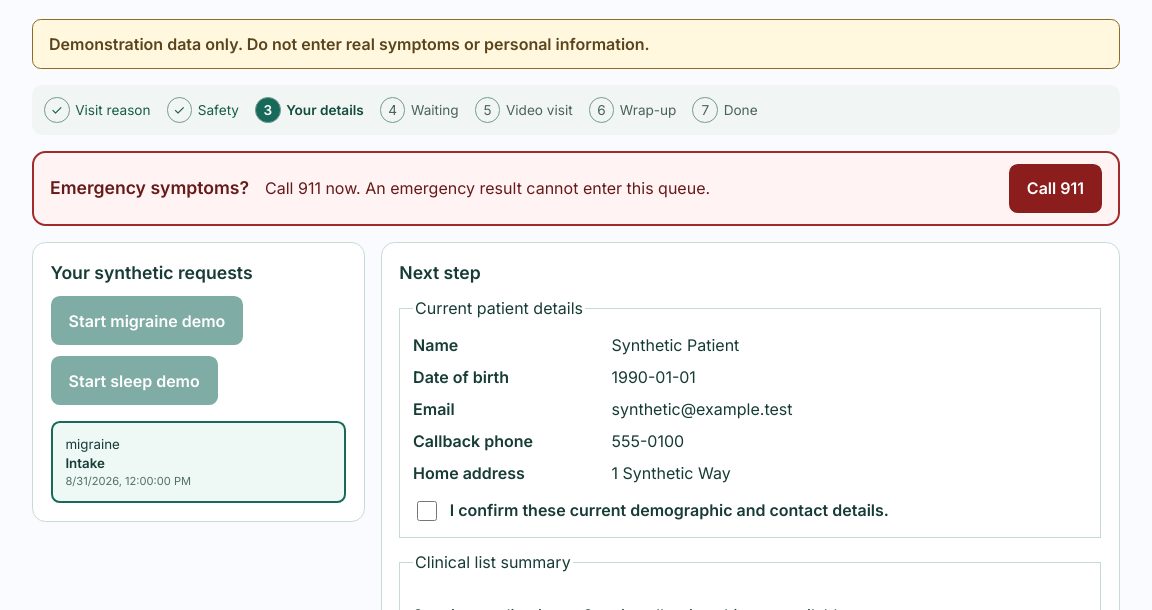
it: PatientTelehealthWorkspace › submits reviewed intake, verifies coverage, and queues in one explicit action
The width and height of the screenshot is (1152, 610).
Click the checkbox labelled "I confirm these current demographic and contact details.": (427, 511) [417,501,437,521]
(page scrolled)
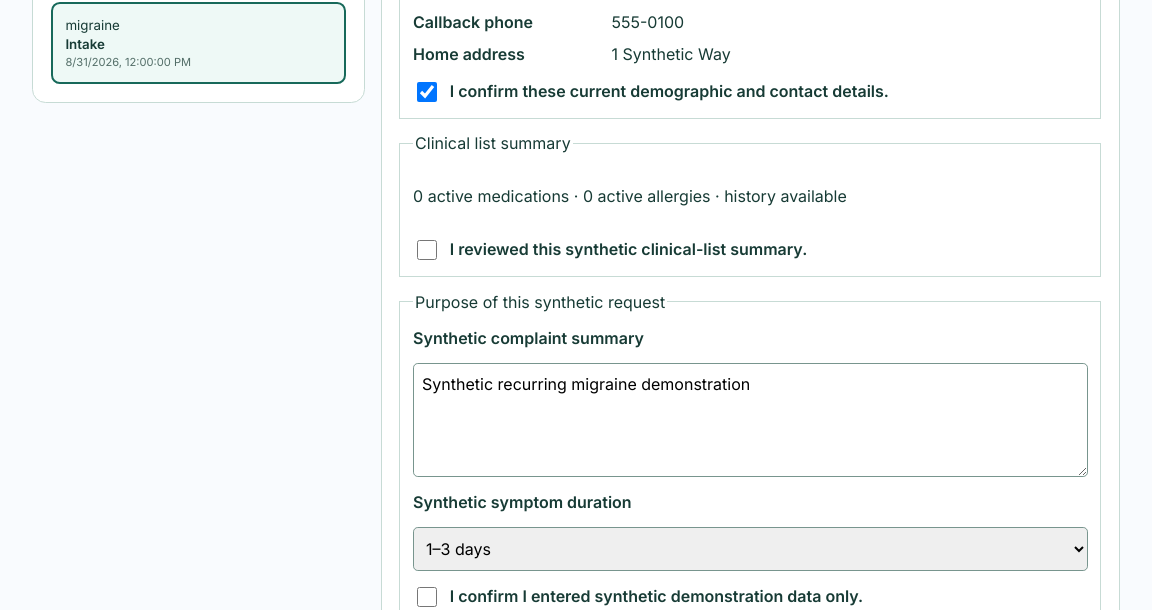
Click the checkbox labelled "I reviewed this synthetic clinical-list summary.": (427, 250) [417,240,437,260]
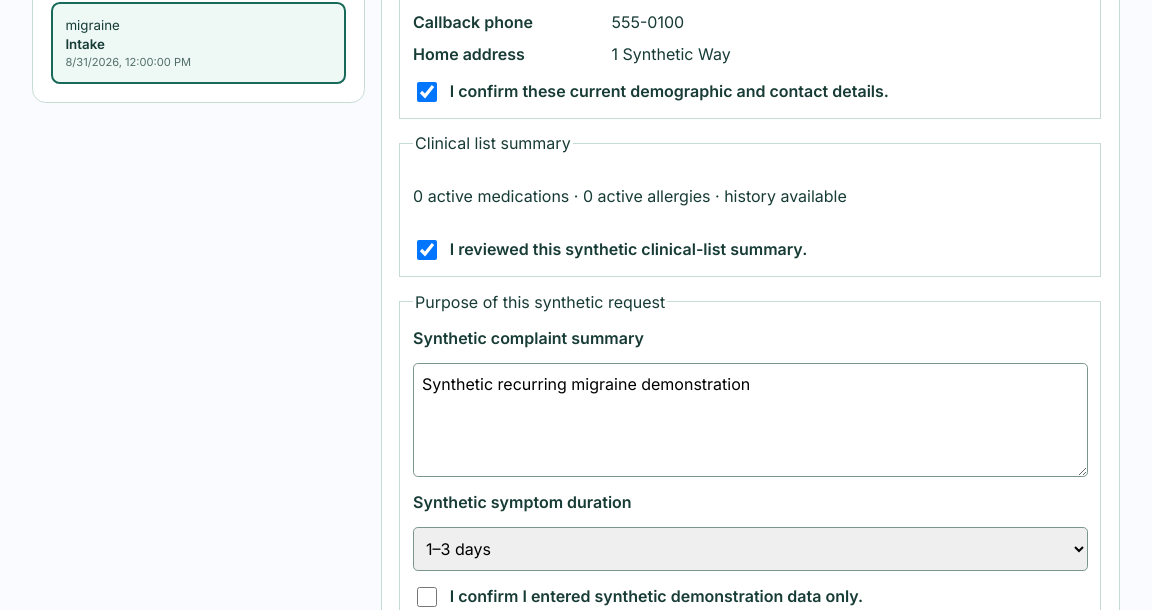
Click the checkbox labelled "I confirm I entered synthetic demonstration data only.": (427, 597) [417,587,437,607]
(page scrolled)
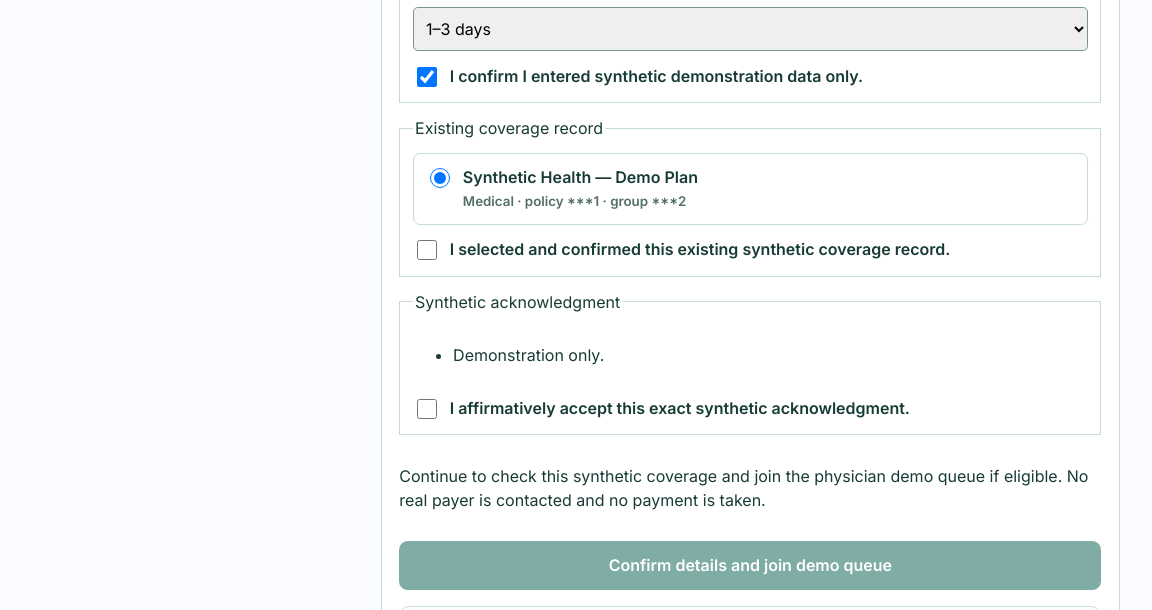
Click the checkbox labelled "selected and confirmed this existing synthetic coverage": (427, 250) [417,240,437,260]
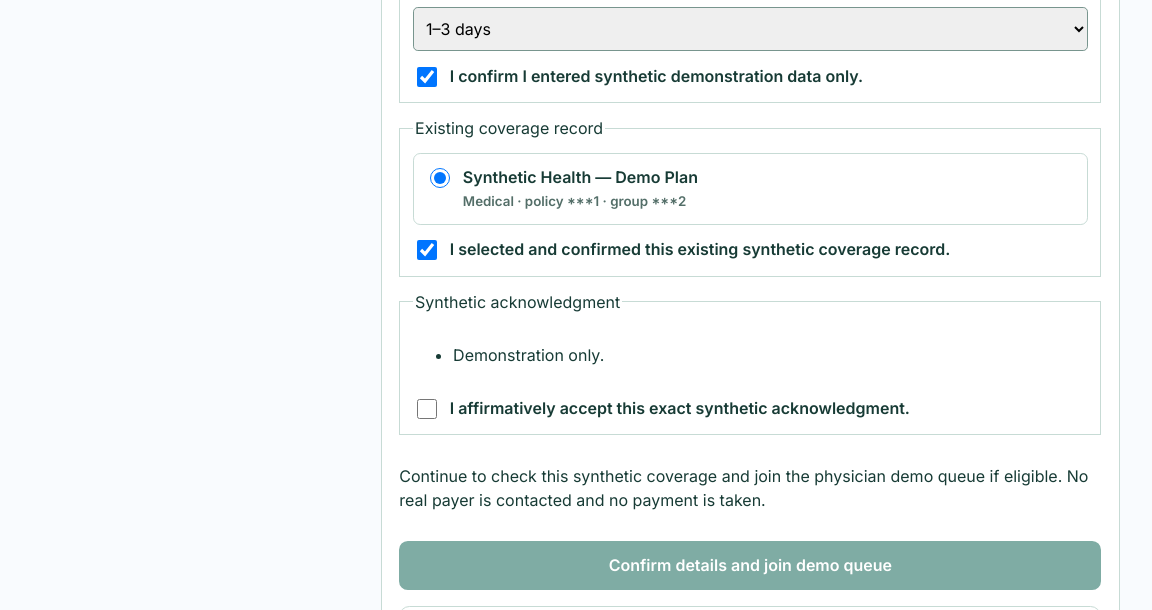
Click the checkbox labelled "I affirmatively accept this exact synthetic acknowledgment.": (427, 408) [417,398,437,418]
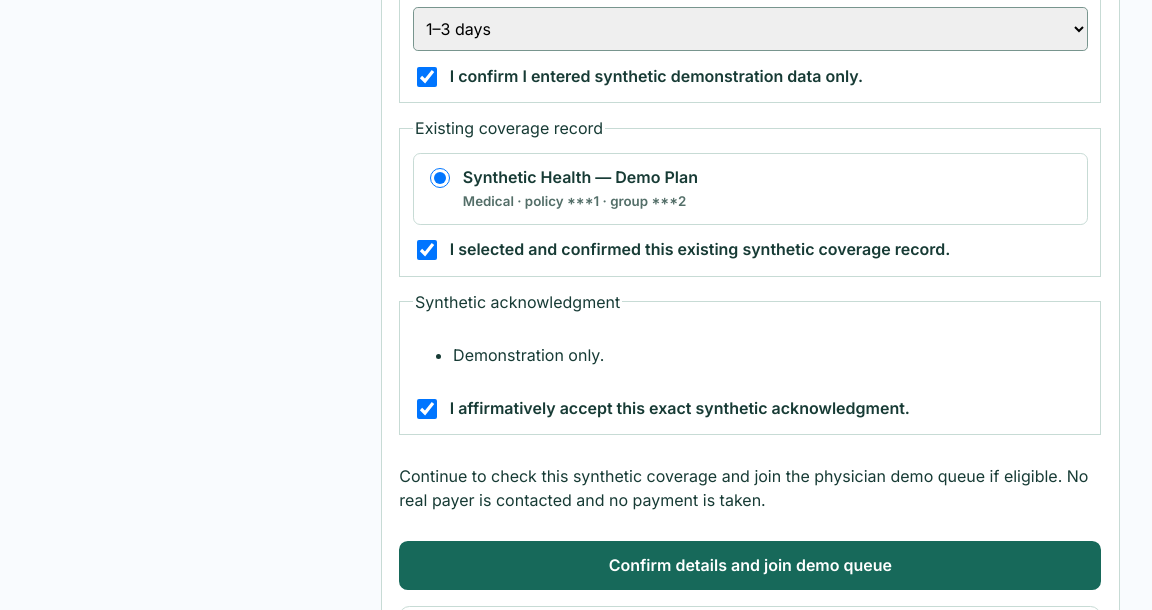
Click the button "Confirm details and join demo queue": (750, 565) [399,541,1101,590]
(page scrolled)
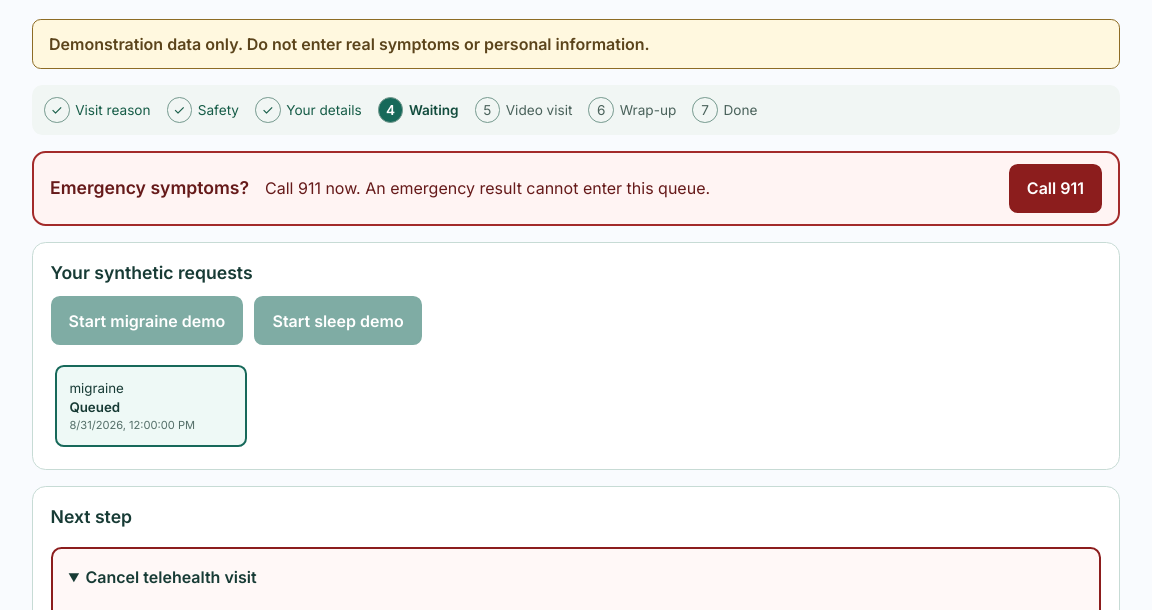
Now the button "Confirm details and join demo queue" is gone
